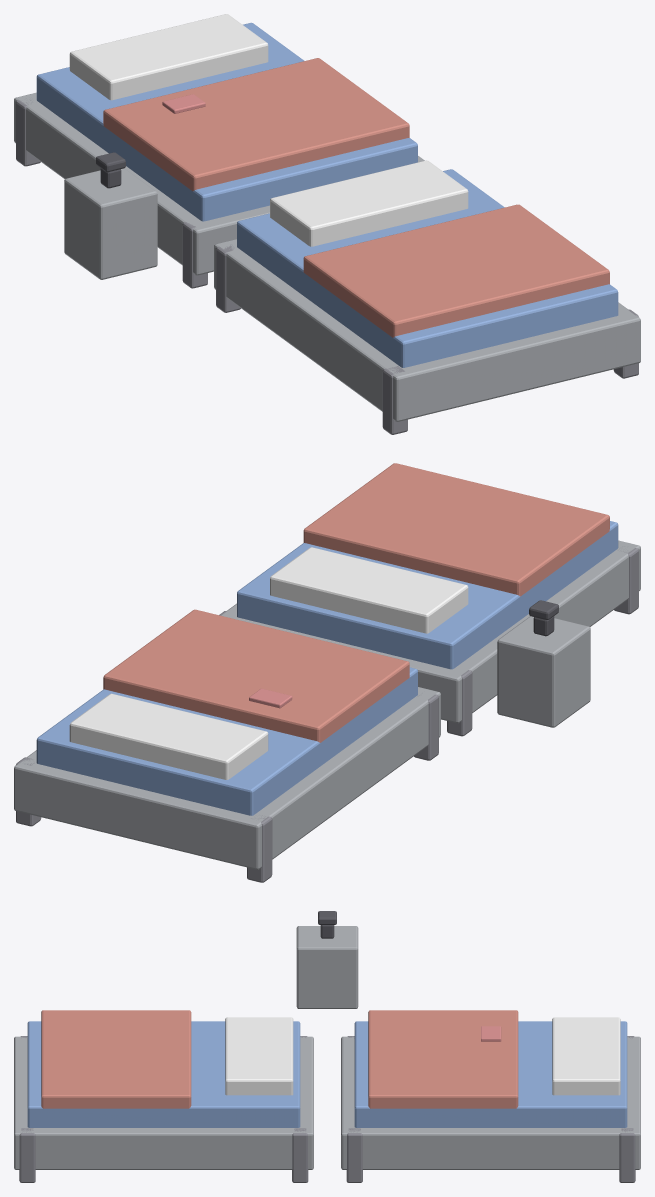
File: койки.glb
3 views of the same model, one above another, from view 1: azimuth 30°, elevation 25°; view 2: azimuth 150°, elevation 25°; view 3: azimuth 270°, elevation 25° (orthographic). The views are drawn at different scales.
Parts seen in each view (by area): view 1: койки; view 2: койки; view 3: койки.
Boxes of the visible parts, x1,y1,x2,y2 form: койки: (14, 14, 640, 434); койки: (14, 463, 640, 882); койки: (14, 911, 640, 1182).
Size of the model in its own units: 2.56 by 1.08 by 4.6.
